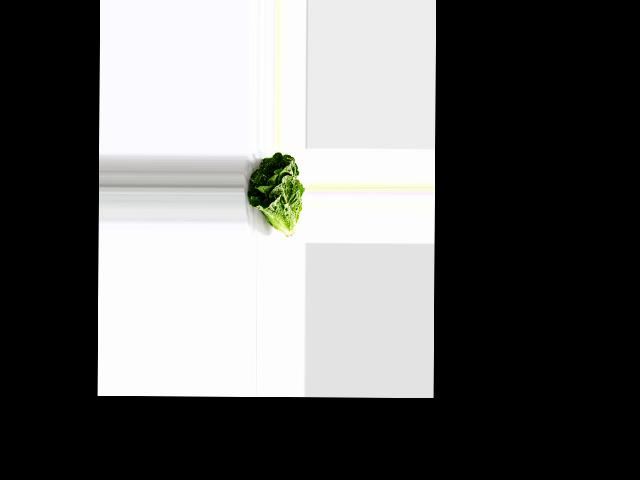lettuce: (246, 153, 305, 235)
